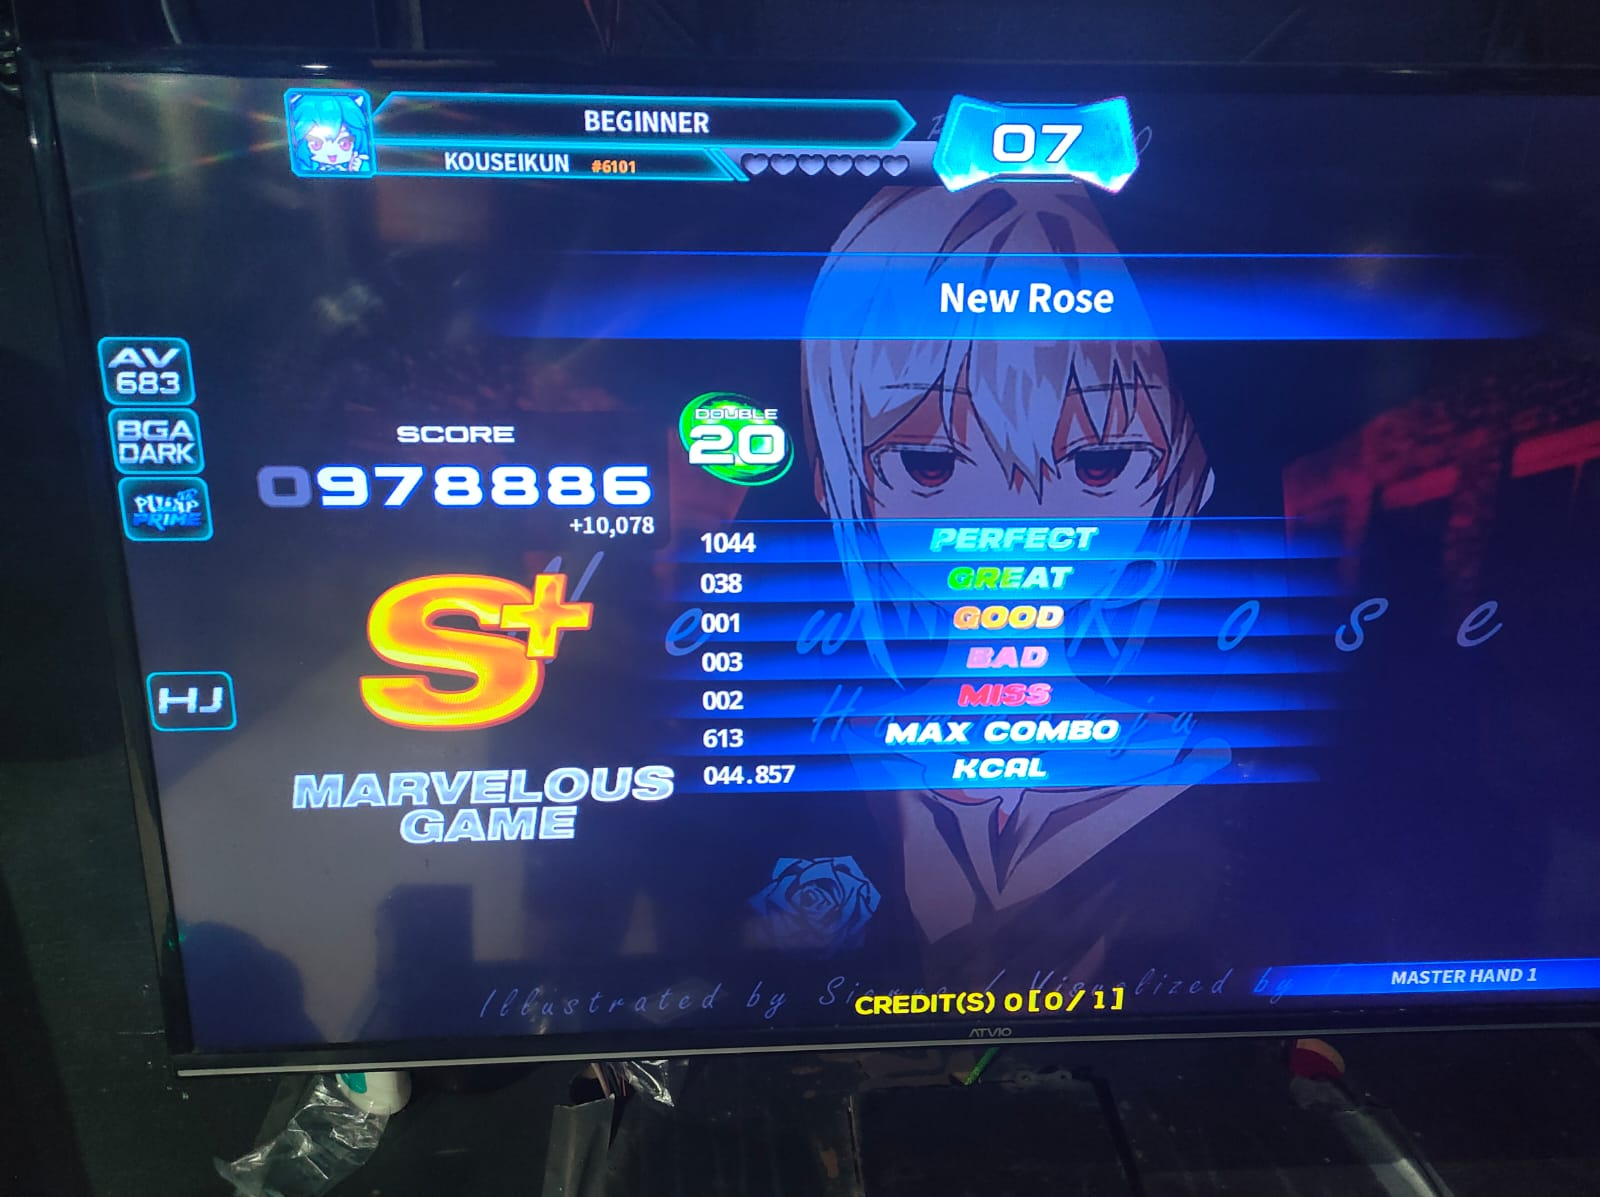difficulty: (667, 376, 808, 485)
fullscore: (68, 28, 1237, 1045)
rank: (319, 537, 615, 746)
score: (251, 420, 664, 509)
song_name: (608, 254, 1423, 347)
